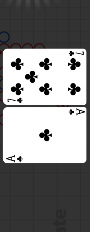7C: (67, 50, 85, 58)
AC: (67, 108, 85, 117)
